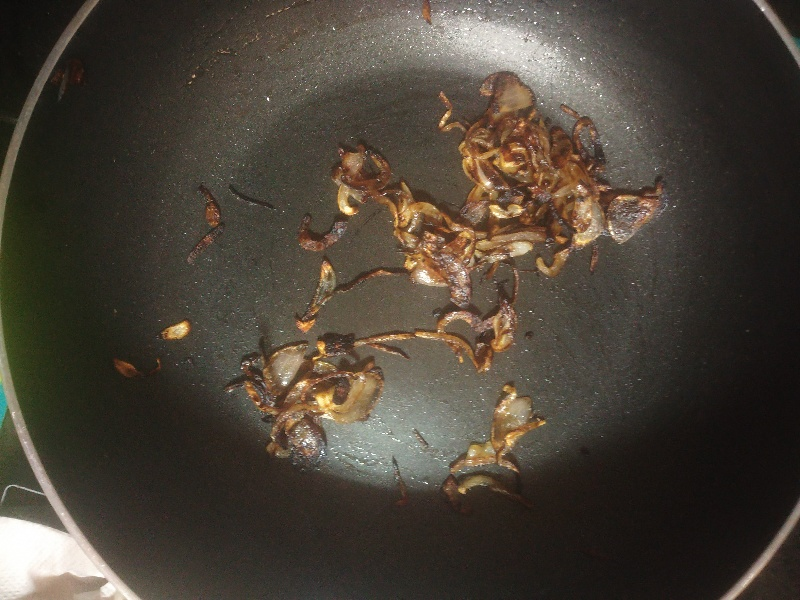onion_burnt: (437, 77, 676, 248), (334, 138, 480, 318), (226, 343, 371, 477), (444, 381, 546, 519), (423, 296, 528, 370)
